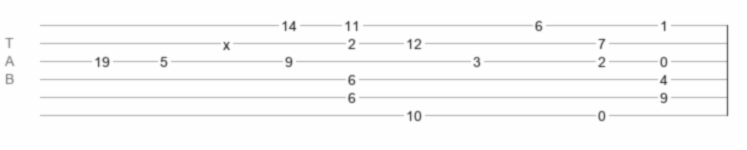0: (598, 108, 606, 118), (660, 54, 668, 64)
1: (660, 18, 668, 28)
10: (406, 108, 422, 118)
11: (344, 18, 360, 28)
12: (406, 36, 422, 46)
14: (281, 18, 297, 28)
19: (94, 54, 110, 64)
2: (348, 36, 356, 46), (598, 54, 606, 64)
3: (473, 54, 481, 64)
4: (660, 72, 668, 82)
5: (160, 54, 168, 64)
6: (348, 72, 356, 82), (348, 90, 356, 100), (535, 18, 543, 28)
7: (598, 36, 606, 46)
9: (285, 54, 293, 64), (660, 90, 668, 100)
x: (223, 37, 230, 45)
